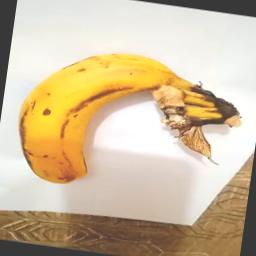Banana Unripe: (11, 36, 250, 210)
